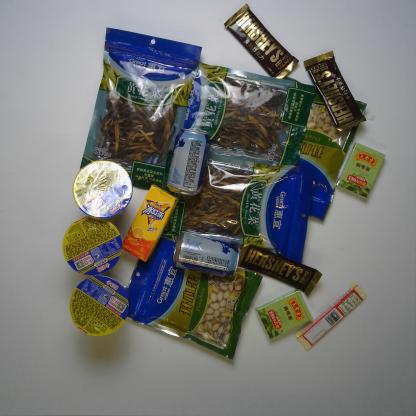Alcohol: (171, 227, 242, 282), (166, 127, 212, 195)
Candy: (332, 138, 389, 204), (253, 286, 314, 341)
Chocolate: (222, 2, 302, 84), (301, 48, 368, 133), (292, 280, 369, 352), (235, 240, 324, 298)
Dried Food: (77, 22, 205, 198), (148, 152, 319, 272), (174, 58, 322, 174)
Dried Fruit: (121, 233, 264, 362), (276, 70, 371, 224)
Drink: (116, 183, 183, 265)
Instant Noodles: (70, 157, 136, 221), (67, 274, 131, 338), (60, 215, 124, 278)
